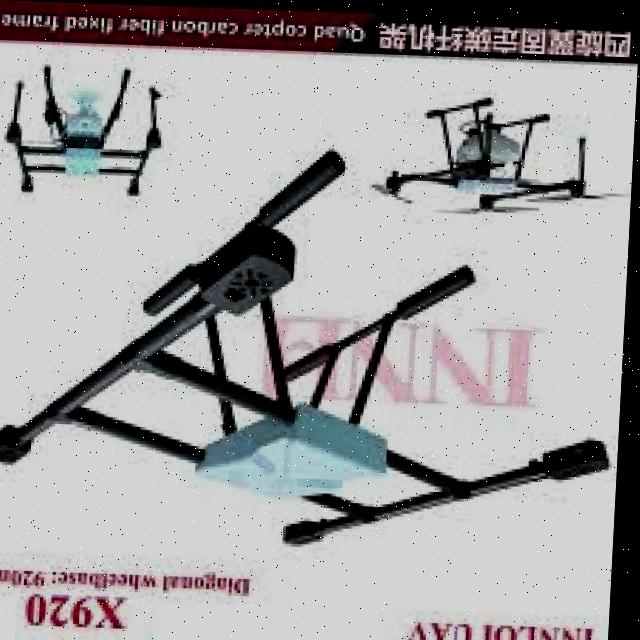drone: (0, 142, 633, 559), (369, 75, 621, 236), (4, 56, 173, 210)
